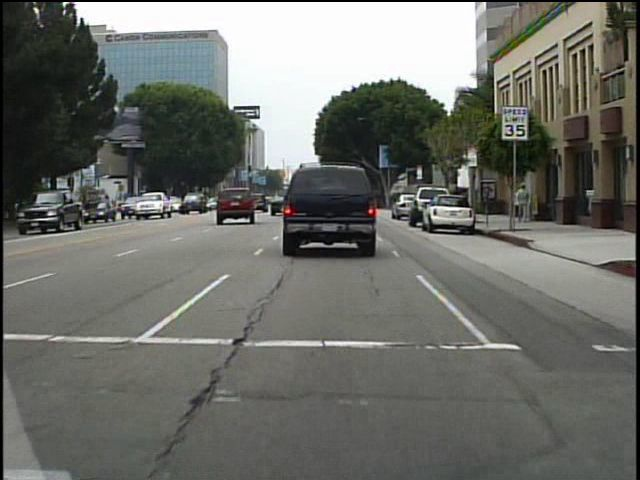person: (514, 181, 533, 228), (449, 184, 465, 220)
